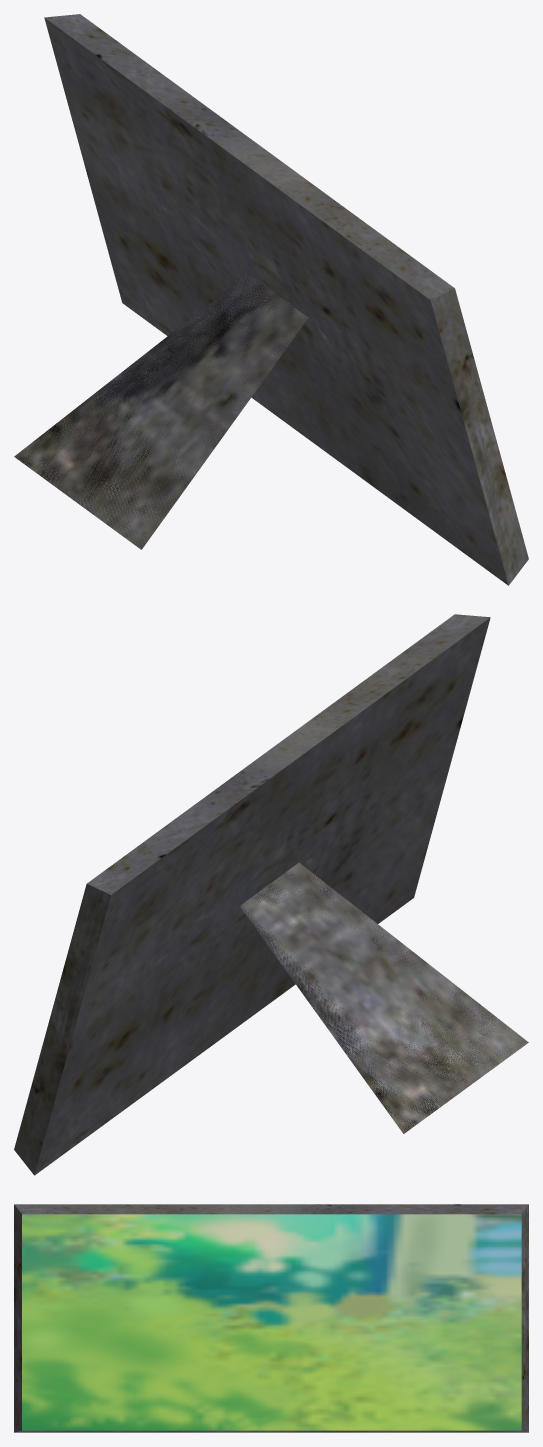
The model's file is M_Home_Garden_Photoframe_08.fbx.
The picture shows the model from 3 angles, top to bottom: view 1: azimuth 30°, elevation 25°; view 2: azimuth 150°, elevation 25°; view 3: azimuth 270°, elevation 25°; orthographic projection. The views are drawn at different scales.
Parts seen in each view (by area): view 1: M_Home_Garden_Photoframe_08; view 2: M_Home_Garden_Photoframe_08; view 3: M_Home_Garden_Photoframe_08.
Part boxes in pixels (x1,y1,x2,y2): M_Home_Garden_Photoframe_08: (14, 14, 528, 585); M_Home_Garden_Photoframe_08: (14, 614, 528, 1175); M_Home_Garden_Photoframe_08: (14, 1204, 528, 1432).
Size of the model in its own units: 11.66 by 12.64 by 29.06.
